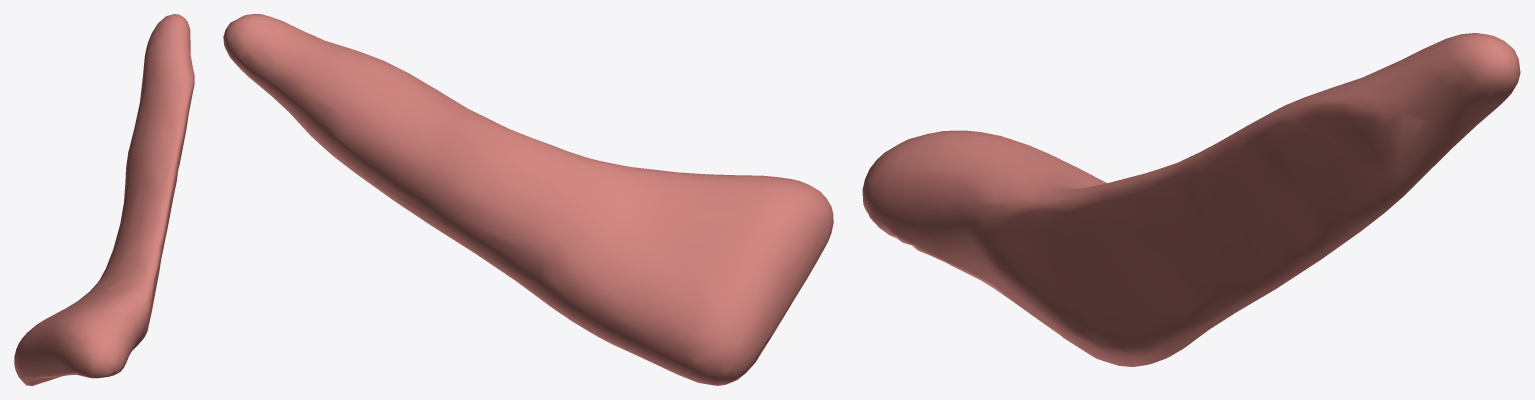
The model's file is fma46729_mm1252.glb.
3 renders of one model, left to right at view 1: azimuth 30°, elevation 25°; view 2: azimuth 150°, elevation 25°; view 3: azimuth 270°, elevation 25°, orthographic. The views are drawn at different scales.
Visible parts, largest first — view 1: FMA46729_MM1252; view 2: FMA46729_MM1252; view 3: FMA46729_MM1252.
Part boxes in pixels (left/top/right/bottom): FMA46729_MM1252: left=14, top=14, right=194, bottom=385; FMA46729_MM1252: left=223, top=14, right=833, bottom=385; FMA46729_MM1252: left=862, top=33, right=1520, bottom=366.
Size of the model in its own units: 0.0291 by 0.0269 by 0.0319.
